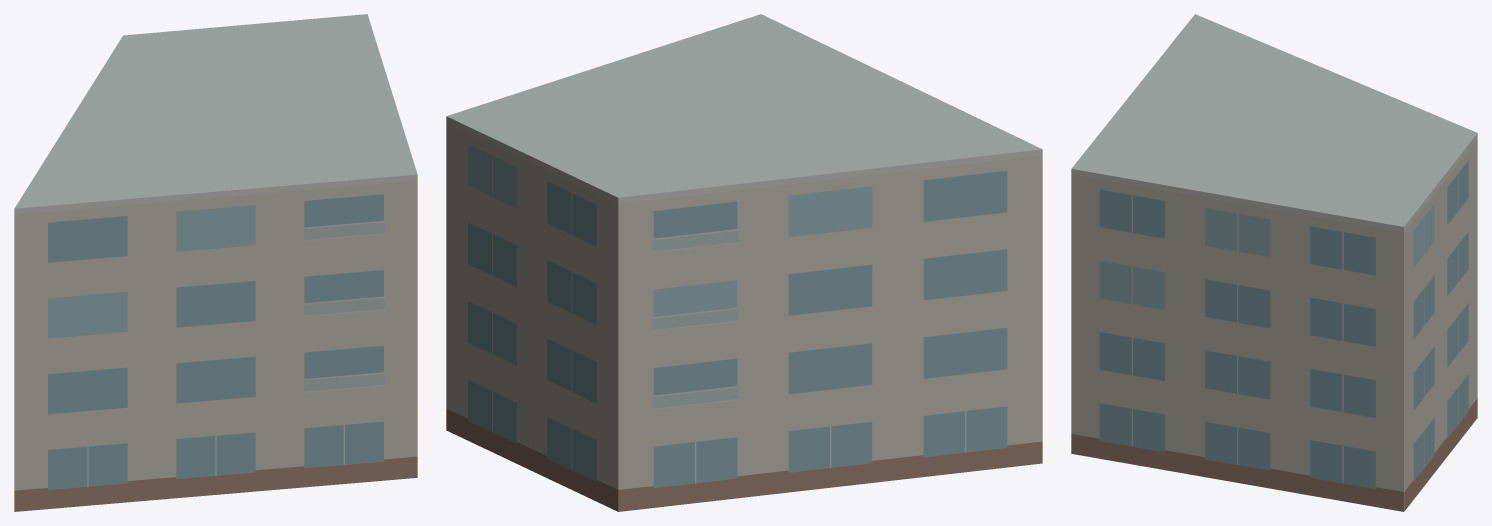
The model's file is survey-upis-32945496.glb.
3 views of the same model, side by side, from view 1: azimuth 30°, elevation 25°; view 2: azimuth 150°, elevation 25°; view 3: azimuth 270°, elevation 25° (orthographic). The views are drawn at different scales.
Visible parts, largest first — view 1: survey-upis-32945496.tmp; view 2: survey-upis-32945496.tmp; view 3: survey-upis-32945496.tmp.
Boxes of the visible parts, x1,y1,x2,y2 form: survey-upis-32945496.tmp: (14,14,417,511); survey-upis-32945496.tmp: (446,14,1042,511); survey-upis-32945496.tmp: (1071,14,1477,511).
Size of the model in its own units: 19.57 by 12.2 by 15.78.
